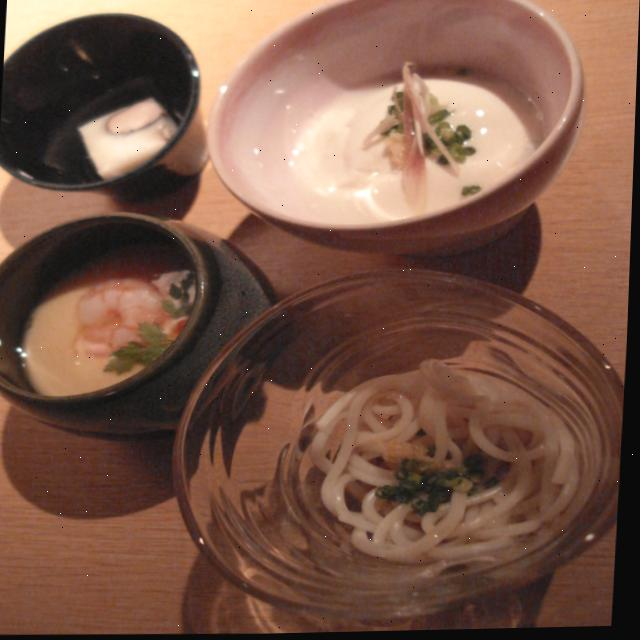鸡蛋料理: (0, 211, 272, 454)
